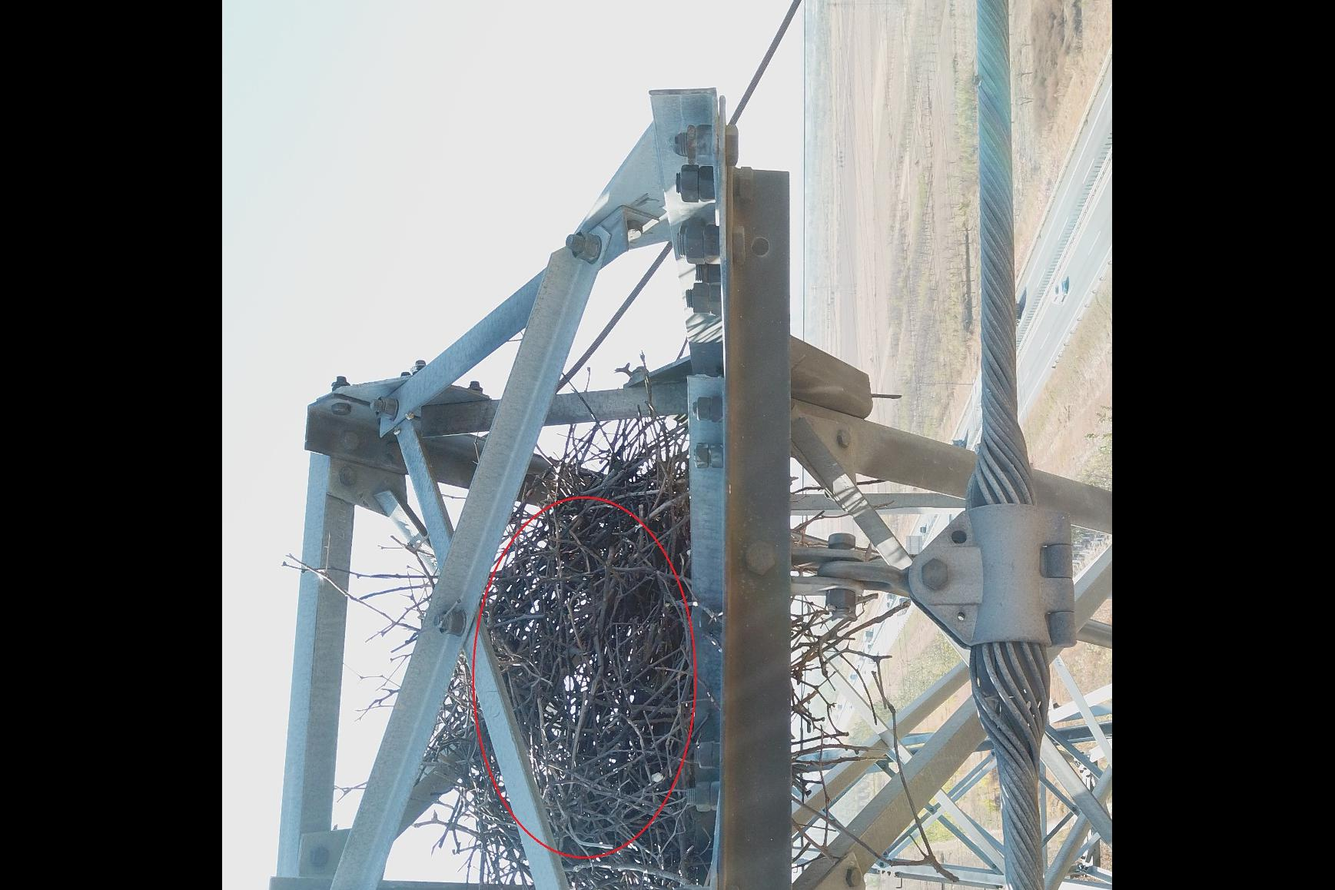nest: (395, 385, 736, 890)
